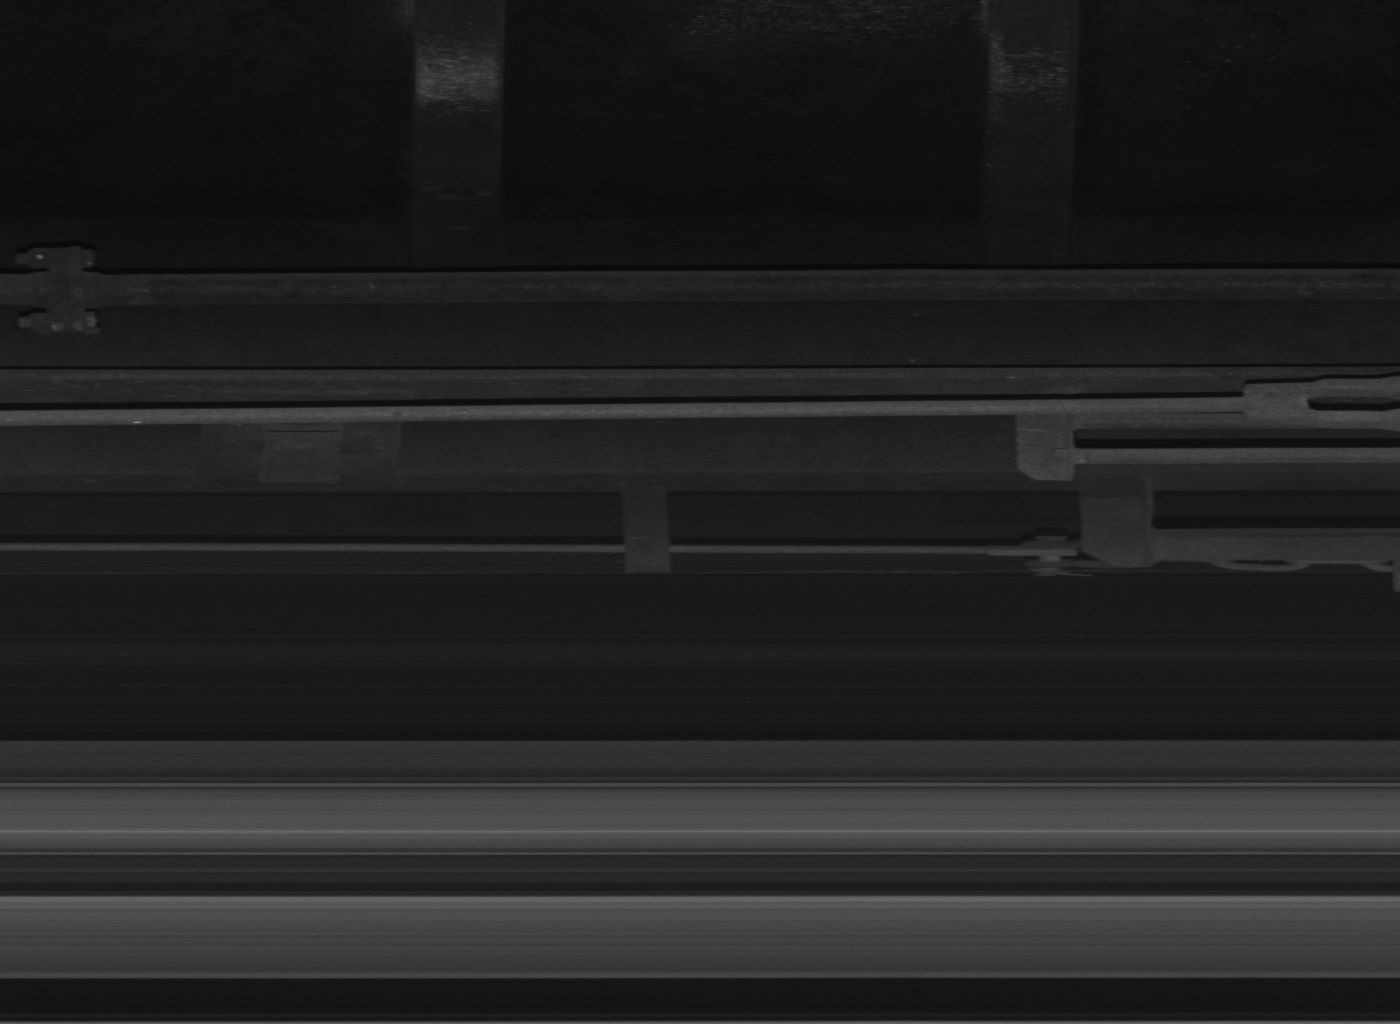normal: (624, 495, 674, 575)
